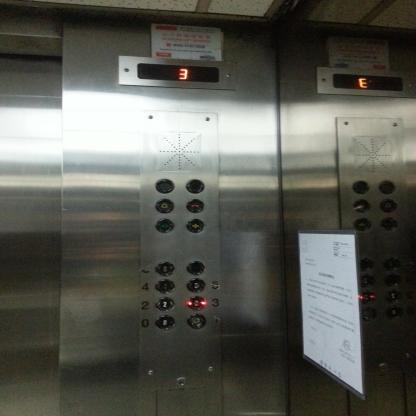0: (154, 314, 176, 330)
2: (154, 296, 174, 312)
4: (155, 279, 175, 294)
6: (155, 261, 175, 276)
alarm: (154, 198, 174, 214), (378, 197, 398, 213), (187, 313, 206, 329)
blur: (186, 295, 206, 311), (186, 278, 206, 293)
call: (186, 198, 204, 214)
close: (185, 217, 205, 234)
empty: (155, 178, 175, 194), (185, 178, 205, 194), (352, 179, 370, 195), (186, 260, 205, 275), (378, 180, 396, 194)
keyhole: (376, 363, 389, 373), (176, 376, 187, 386)
led: (136, 61, 220, 84), (331, 72, 405, 95)
open: (155, 218, 174, 233)
unknown: (385, 272, 402, 287), (386, 304, 402, 319), (384, 256, 400, 271), (386, 289, 402, 303), (381, 217, 397, 231), (355, 217, 371, 231)
